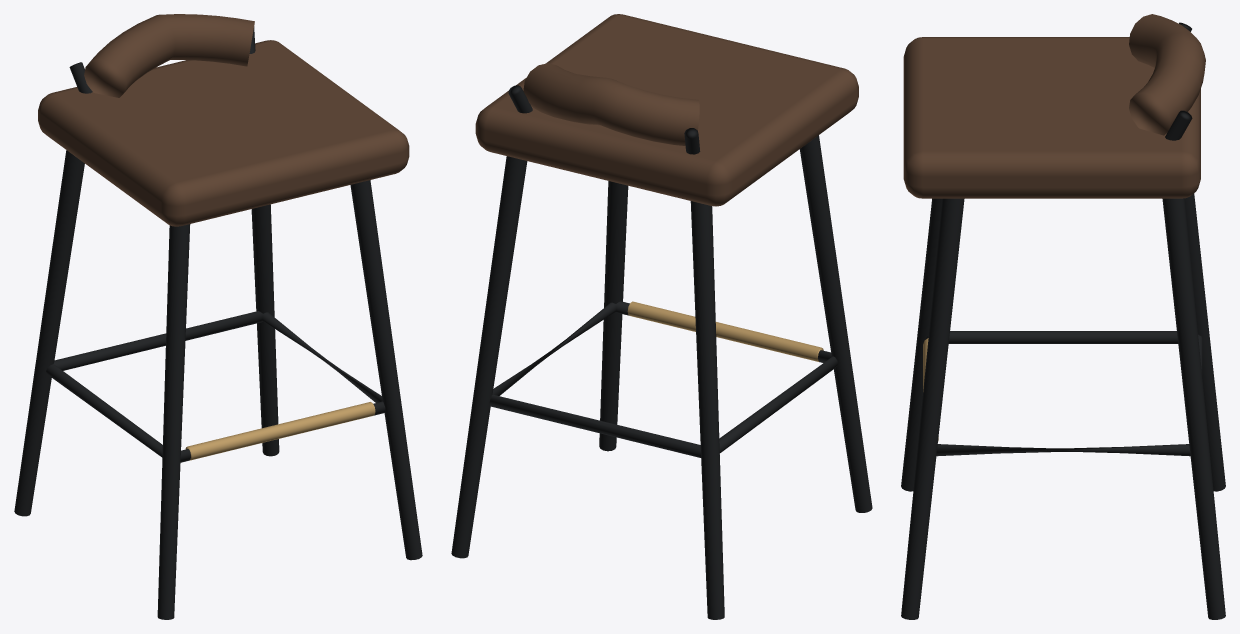
File: obj_birim_bar_stool.glb
3 views of the same model, side by side, from view 1: azimuth 30°, elevation 25°; view 2: azimuth 150°, elevation 25°; view 3: azimuth 270°, elevation 25° (orthographic). The views are drawn at different scales.
Visible parts, largest first — view 1: obj_birim_bar_stool; view 2: obj_birim_bar_stool; view 3: obj_birim_bar_stool.
Boxes of the visible parts, x1,y1,x2,y2 form: obj_birim_bar_stool: (14,14,422,619); obj_birim_bar_stool: (451,14,872,619); obj_birim_bar_stool: (901,14,1225,619).
Bounding box in the file's own units: 0.4379 × 0.7632 × 0.4375.
